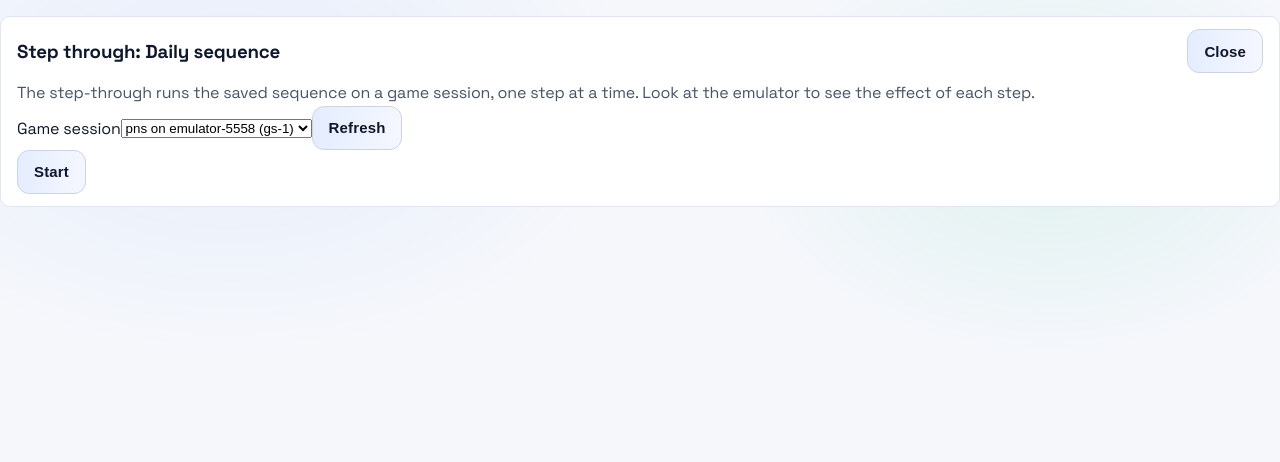
it: StepThroughPanel history, restart, values, and queue › shows a hint while the history is empty
The image size is (1280, 462).
Click the button "Start" at (51,172), box [17,150,86,194]
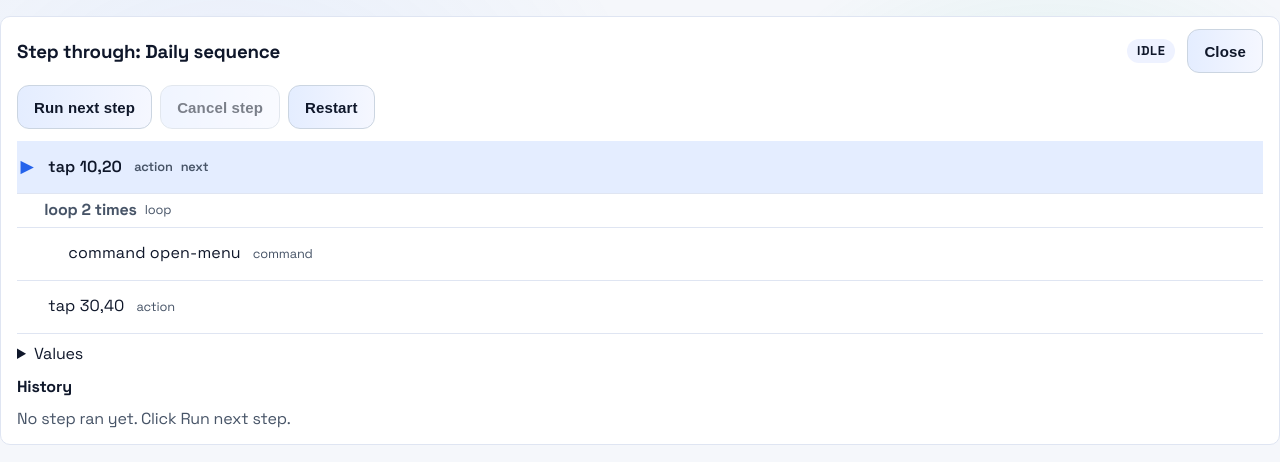
Now the list named "Steps" is shown, box [17,141,1263,334]
Now the text "No step ran yet. Click Run next step." is shown, box [17,408,291,429]
